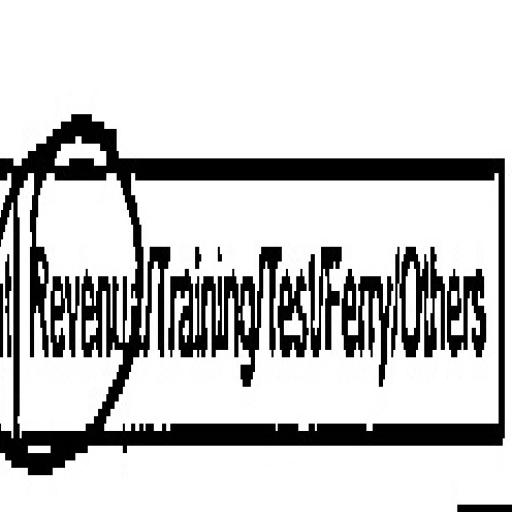check: (17, 92, 137, 502)
